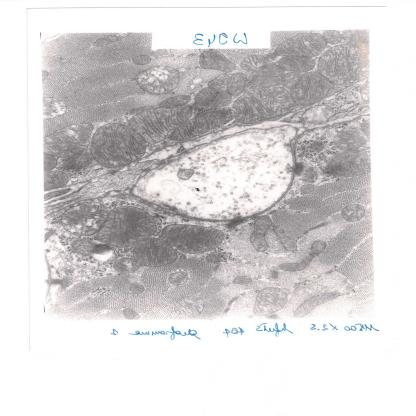mitochondria: (90, 206, 160, 247), (89, 124, 148, 170), (129, 106, 194, 144), (167, 106, 231, 144), (315, 43, 368, 87), (232, 87, 293, 124), (162, 225, 228, 255), (61, 198, 112, 236), (43, 121, 95, 158), (278, 240, 327, 273), (291, 72, 335, 107), (132, 236, 178, 268), (137, 64, 184, 94), (274, 33, 328, 57), (292, 291, 341, 317), (252, 287, 290, 316), (195, 49, 239, 74), (248, 63, 292, 88), (248, 212, 275, 252), (331, 125, 368, 153), (272, 226, 302, 256), (194, 87, 233, 109), (170, 297, 208, 318), (278, 54, 316, 72), (237, 54, 272, 73), (111, 258, 142, 278), (340, 203, 368, 223), (226, 72, 249, 95), (156, 94, 193, 108), (166, 270, 191, 288), (322, 30, 346, 46), (205, 73, 232, 87), (126, 282, 149, 294), (130, 54, 153, 66), (121, 307, 143, 319), (231, 275, 254, 286), (178, 166, 196, 180), (204, 252, 224, 264), (298, 184, 316, 196)
